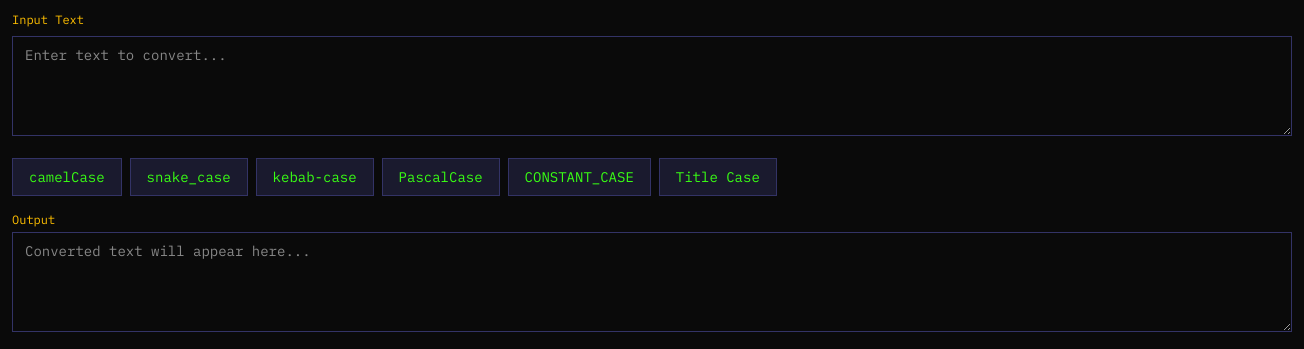
Test case: CaseConverter › converts to kebab-case when button is clicked
In the text box labelled "Input Text": (652,86) [12,36,1292,136], type "helloWorld"
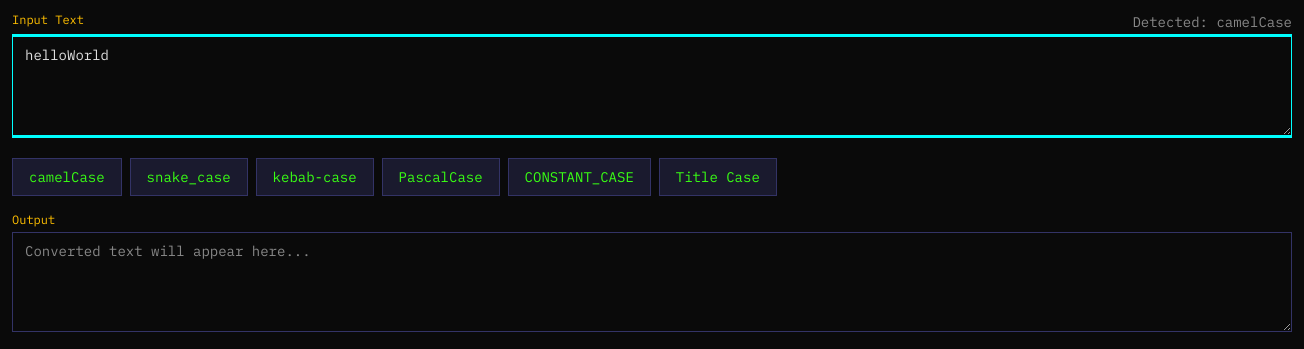
Click the button "kebab-case": (315,177) [256,158,374,196]
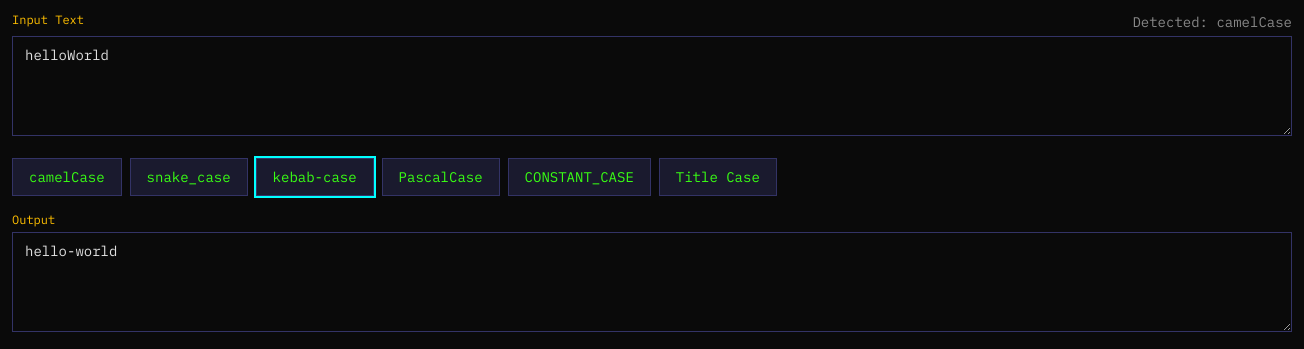
Expected: the text box labelled "Output" holds "hello-world", [12,232,1292,332]
